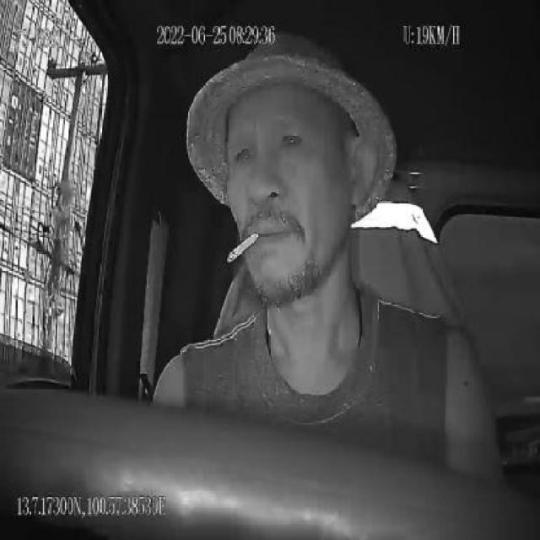smoking: (226, 227, 259, 262)
